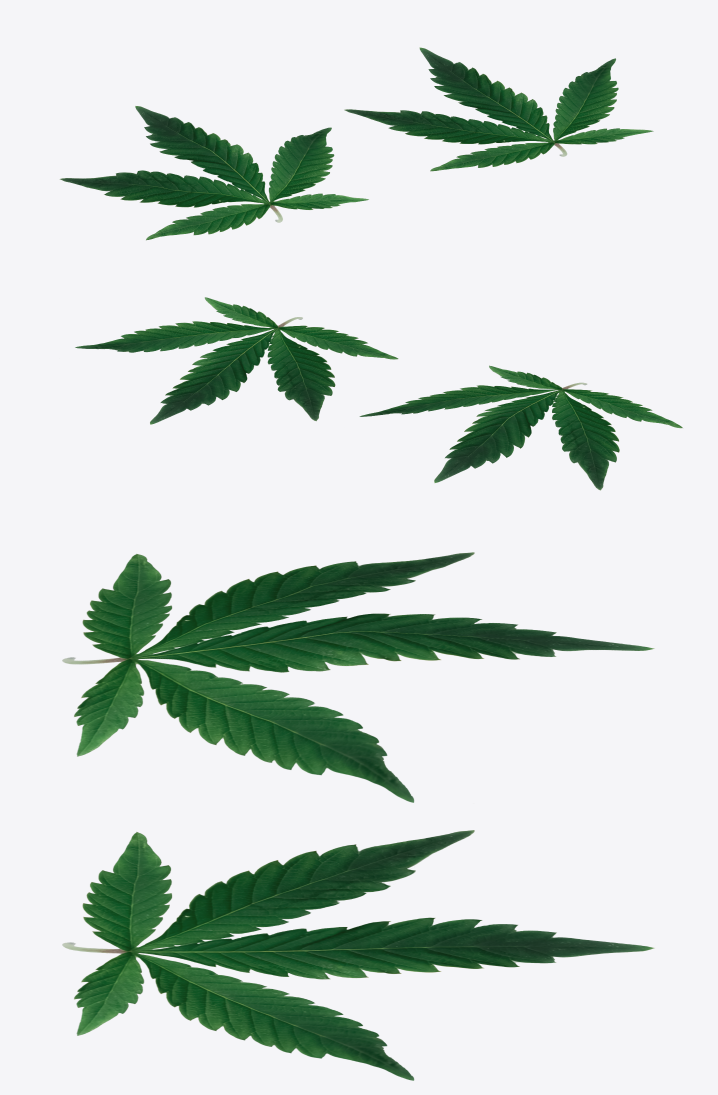
The model's file is weed_leaf.glb.
3 views of the same model, one above another, from view 1: azimuth 30°, elevation 25°; view 2: azimuth 150°, elevation 25°; view 3: azimuth 270°, elevation 25° (orthographic). The views are drawn at different scales.
Visible parts, largest first — view 1: Plane.001, Plane; view 2: Plane, Plane.001; view 3: Plane, Plane.001.
Part boxes in pixels (<box>): Plane.001: <box>59,106,369,240</box>; Plane: <box>344,47,653,171</box>; Plane: <box>75,297,398,424</box>; Plane.001: <box>359,365,683,490</box>; Plane: <box>62,830,654,1080</box>; Plane.001: <box>62,552,654,802</box>.
Bounding box in the file's own units: 4.21 × 0.1594 × 2.
Materials: 1 (1 with a texture image).
